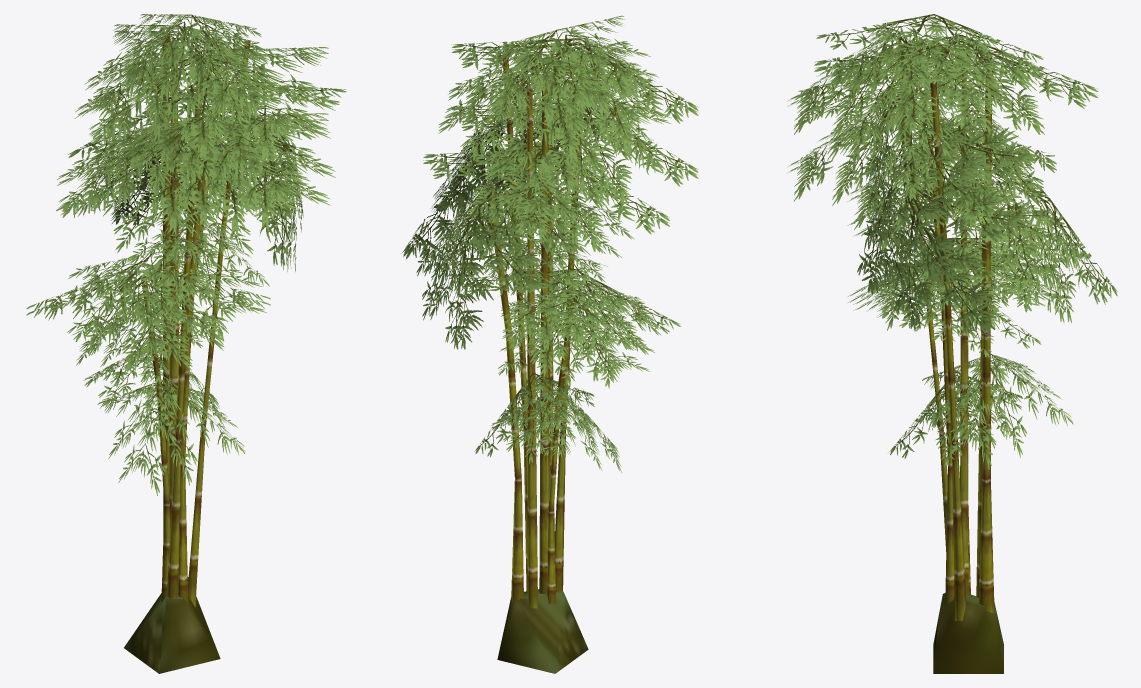
File: flora-trees-bamboo.glb
3 renders of one model, left to right at view 1: azimuth 30°, elevation 25°; view 2: azimuth 150°, elevation 25°; view 3: azimuth 270°, elevation 25°, orthographic. The views are drawn at different scales.
Parts seen in each view (by area): view 1: Plane_007; view 2: Plane_007; view 3: Plane_007.
Boxes of the visible parts, x1=… form: Plane_007: x1=26, y1=14, x2=346, y2=673; Plane_007: x1=401, y1=15, x2=698, y2=673; Plane_007: x1=787, y1=14, x2=1117, y2=673.
Bounding box in the file's own units: 3.44 × 7.55 × 4.07.
Materials: 1 (1 with a texture image).
